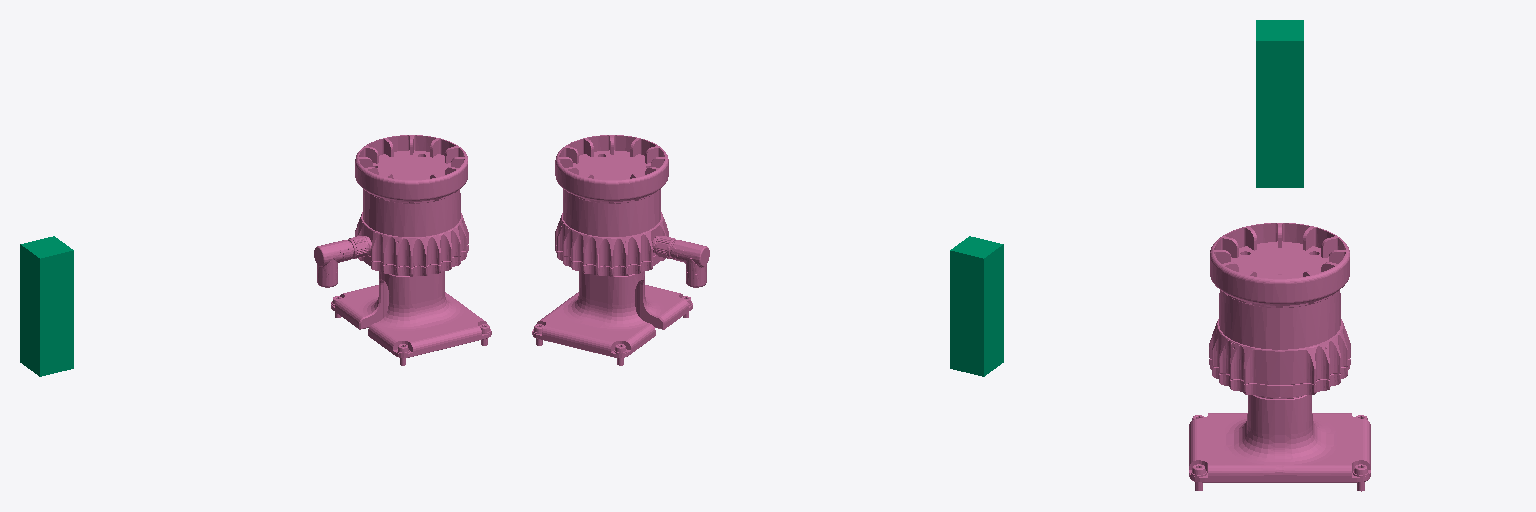
robot.urdf — avular_origin_one:
<?xml version='1.0'?>

<robot name="avular_origin_one">

  <gazebo>
    <static>false</static>
    <plugin filename="gz-sim-sensors-system" name="gz::sim::systems::Sensors">
      <render_engine>ogre2</render_engine>
    </plugin>
    <plugin filename="ignition-gazebo-navsat-system" name="ignition::gazebo::systems::NavSat">
    </plugin>
  </gazebo>

  <link name='base_link' />

  <link name='main_body'>
    <inertial>
      <mass value="21.0"/>
      <inertia ixx="0.4" ixy="0.0" ixz="0.0" iyy="0.77" iyz="0.0" izz="1.01"/>
    </inertial>
    <collision name='collision'>
      <origin xyz="0 0 0.07" rpy="0 0 0.0"/>
      <geometry>
        <box size=".65 .4 .125"/>
      </geometry>
    </collision>
    <visual name='visual'>
      <origin xyz="0 0 0" rpy="0 0 0.0"/>
      <geometry>
        <mesh filename="package://origin_one_description/urdf/meshes/body.obj"
          scale="0.001 0.001 0.001" />
      </geometry>
    </visual>
  </link>

  <link name="left_front_wheel">
    <inertial>
      <mass value="1"/>
      <inertia ixx="0.01" ixy="0.0" ixz="0.0" iyy="0.01" iyz="0.0" izz="0.01"/>
    </inertial>
    <collision>
      <origin xyz="0 0 0.0" rpy="0 0 0"/>
      <geometry>
        <cylinder length=".07" radius=".1175"/>
      </geometry>
    </collision>
    <visual>
      <origin xyz="0.0 0.0 0.0" rpy="0.0 1.5707 0.0"/>
      <geometry>
        <mesh filename="package://origin_one_description/urdf/meshes/wheel.obj"
          scale="0.001 0.001 0.001" />
      </geometry>
    </visual>
  </link>
  <gazebo reference="left_front_wheel">
    <collision>
      <surface>
        <friction>
          <ode>
            <mu>1</mu>
            <mu2>1</mu2>
            <slip1>0.015</slip1>
            <slip2>0</slip2>
            <fdir1>0 0 1</fdir1>
          </ode>
          <bullet>
            <friction>1</friction>
            <friction2>1</friction2>
            <rolling_friction>0.1</rolling_friction>
          </bullet>
        </friction>
      </surface>
    </collision>
  </gazebo>

  <link name="right_front_wheel">
    <inertial>
      <mass value="1"/>
      <inertia ixx="0.01" ixy="0.0" ixz="0.0" iyy="0.01" iyz="0.0" izz="0.01"/>
    </inertial>
    <collision>
      <origin xyz="0 0 0.0" rpy="0 0 0"/>
      <geometry>
        <cylinder length=".07" radius=".1175"/>
      </geometry>
    </collision>
    <visual>
      <origin xyz="0.0 0.0 0.0" rpy="0.0 1.5707 0.0"/>
      <geometry>
        <mesh filename="package://origin_one_description/urdf/meshes/wheel.obj"
          scale="0.001 0.001 0.001" />
      </geometry>
    </visual>
  </link>
  <gazebo reference="right_front_wheel">
    <collision>
      <surface>
        <friction>
          <ode>
            <mu>1</mu>
            <mu2>1</mu2>
            <slip1>0.015</slip1>
            <slip2>0</slip2>
            <fdir1>0 0 1</fdir1>
          </ode>
          <bullet>
            <friction>1</friction>
            <friction2>1</friction2>
            <rolling_friction>0.1</rolling_friction>
          </bullet>
        </friction>
      </surface>
    </collision>
  </gazebo>

  <link name="left_rear_wheel">
    <inertial>
      <mass value="1"/>
      <inertia ixx="0.01" ixy="0.0" ixz="0.0" iyy="0.01" iyz="0.0" izz="0.01"/>
    </inertial>
    <collision>
      <origin xyz="0 0 0.0" rpy="0 0 0"/>
      <geometry>
        <cylinder length=".07" radius=".1175"/>
      </geometry>
    </collision>
    <visual>
      <origin xyz="0.0 0.0 0.0" rpy="0.0 1.5707 0.0"/>
      <geometry>
        <mesh filename="package://origin_one_description/urdf/meshes/wheel.obj"
          scale="0.001 0.001 0.001" />
      </geometry>
    </visual>
  </link>
  <gazebo reference="left_rear_wheel">
    <collision>
      <surface>
        <friction>
          <ode>
            <mu>1</mu>
            <mu2>1</mu2>
            <slip1>0.015</slip1>
            <slip2>0</slip2>
            <fdir1>0 0 1</fdir1>
          </ode>
          <bullet>
            <friction>1</friction>
            <friction2>1</friction2>
            <rolling_friction>0.1</rolling_friction>
          </bullet>
        </friction>
      </surface>
    </collision>
  </gazebo>

  <link name="right_rear_wheel">
    <inertial>
      <mass value="1"/>
      <inertia ixx="0.01" ixy="0.0" ixz="0.0" iyy="0.01" iyz="0.0" izz="0.01"/>
    </inertial>
    <collision>
      <origin xyz="0 0 0.0" rpy="0 0 0"/>
      <geometry>
        <cylinder length=".07" radius=".1175"/>
      </geometry>
    </collision>
    <visual>
      <origin xyz="0.0 0.0 0.0" rpy="0.0 1.5707 0.0"/>
      <geometry>
        <mesh filename="package://origin_one_description/urdf/meshes/wheel.obj"
          scale="0.001 0.001 0.001" />
      </geometry>
    </visual>
  </link>
  <gazebo reference="right_rear_wheel">
    <collision>
      <surface>
        <friction>
          <ode>
            <mu>1</mu>
            <mu2>1</mu2>
            <slip1>0.015</slip1>
            <slip2>0</slip2>
            <fdir1>0 0 1</fdir1>
          </ode>
          <bullet>
            <friction>1</friction>
            <friction2>1</friction2>
            <rolling_friction>0.1</rolling_friction>
          </bullet>
        </friction>
      </surface>
    </collision>
  </gazebo>


  <link name="ouster_base">
    <inertial>
      <mass value="1"/>
      <inertia ixx="0.001" ixy="0.0" ixz="0.0" iyy="0.001" iyz="0.0" izz="0.001"/>
    </inertial>
    <visual name="visual">
      <geometry>
        <mesh filename="package://origin_one_description/urdf/meshes/ouster.obj"
          scale="0.001 0.001 0.001" />
      </geometry>
    </visual>
    <collision name="collision-base">
      <origin xyz="0.0 0.0 0.0" rpy="0.0 0.0 0.0"/>
      <geometry>
        <box size="0.1 0.1 0.1"/>
      </geometry>
    </collision>
  </link>

  <link name="os_sensor" />

  <link name="lidar_link_gazebo">
    <inertial>
      <mass value="0.1"/>
      <inertia ixx="0.001" ixy="0.0" ixz="0.0" iyy="0.001" iyz="0.0" izz="0.001"/>
    </inertial>
    <collision name="collision-base">
      <origin xyz="0 0 0.0" rpy="0 0 0"/>
      <geometry>
        <cylinder length="0.07" radius="0.04"/>
      </geometry>
    </collision>
  </link>

  <gazebo reference="lidar_link_gazebo">
    <sensor name='ouster_lidar' type='gpu_lidar'>
      <topic>/robot/lidar</topic>
      <gz_frame_id>os_lidar</gz_frame_id>
      <update_rate>10</update_rate>
      <lidar>
        <scan>
          <horizontal>
            <samples>1024</samples>
            <resolution>1.0</resolution>
            <min_angle>-3.1415926</min_angle>
            <max_angle>3.1415926</max_angle>
          </horizontal>
          <vertical>
            <samples>32</samples>
            <resolution>1</resolution>
            <min_angle>-0.39</min_angle>
            <max_angle>0.39</max_angle>
          </vertical>
        </scan>
        <range>
          <min>0.08</min>
          <max>100.0</max>
          <resolution>0.01</resolution>
        </range>
        <noise type="gaussian">
          <mean>0.0</mean>
          <stddev>0.01</stddev>
        </noise>
      </lidar>
      <alwaysOn>1</alwaysOn>
      <visualize>true</visualize>
    </sensor>
  </gazebo>

  <link name="camera_link">
    <inertial>
      <mass value="0.035"/>
      <inertia ixx="0.001" ixy="0" ixz="0.0" iyy="0.001" iyz="0.0" izz="0.001"/>
    </inertial>
    <collision name="collision">
      <origin xyz="0 0.047 0" rpy="0 0 0"/>
      <geometry>
        <box size="0.008 0.13 0.022"/>
      </geometry>
    </collision>
  </link>

  <gazebo reference="camera_link">
    <sensor name="realsense_d435" type="rgbd_camera">
      <gz_frame_id>camera_link</gz_frame_id>
      <topic>/robot/camera</topic>
      <update_rate>6</update_rate>
      <camera name="camera">
        <horizontal_fov>1.0472</horizontal_fov>
        <lens>
          <intrinsics>
            <!-- fx = fy = width / ( 2 * tan (hfov / 2 ) ) -->
            <fx>554.25469</fx>
            <fy>554.25469</fy>
            <!-- cx = ( width + 1 ) / 2 -->
            <cx>320.5</cx>
            <!-- cy = ( height + 1 ) / 2 -->
            <cy>240.5</cy>
            <s>0</s>
          </intrinsics>
        </lens>
        <distortion>
          <k1>0.0</k1>
          <k2>0.0</k2>
          <k3>0.0</k3>
          <p1>0.0</p1>
          <p2>0.0</p2>
          <center>0.5 0.5</center>
        </distortion>
        <image>
          <width>640</width>
          <height>480</height>
          <format>R8G8B8</format>
        </image>
        <clip>
          <near>0.02</near>
          <far>300</far>
        </clip>
        <depth_camera>
          <clip>
            <near>0.1</near>
            <far>10</far>
          </clip>
        </depth_camera>
        <noise type="gaussian">
          <mean>0</mean>
          <stddev>0.007</stddev>
        </noise>
      </camera>
    </sensor>
  </gazebo>

  <link name="gnss_link">
    <visual name="visual_pole">
      <geometry>
        <mesh filename="package://origin_one_description/urdf/meshes/antenna.obj"
          scale="0.001 0.001 0.001" />
      </geometry>
      <origin xyz="0.0 0 0.0" rpy="0 0 0"/>
      <geometry>
        <box size="0.03 0.03 0.1"/>
      </geometry>
    </visual>
  </link>

  <gazebo reference="gnss_link">
    <sensor name="navsat" type="navsat">
      <gz_frame_id>gnss_link</gz_frame_id>
      <always_on>1</always_on>
      <update_rate>10</update_rate>
      <topic>/robot/gnss</topic>
      <!-- Obtained from http://sdformat.org/spec?ver=1.11&elem=sensor#sensor_gps -->
      <gps>
        <position_sensing>
          <horizontal>
            <!-- Noise in degrees: https://github.com/gazebosim/gz-sensors/issues/325 -->
            <noise type="gaussian">
              <mean>0.0</mean>
              <stddev>0.0001</stddev>
            </noise>
          </horizontal>
          <vertical>
            <!-- Noise in degrees -->
            <noise type="gaussian">
              <mean>0.0</mean>
              <stddev>0.0001</stddev>
            </noise>
          </vertical>
        </position_sensing>
      </gps>
    </sensor>
  </gazebo>
  
  <link name="us_left_front_link">
  </link>

  <link name="us_center_front_link">
  </link>

  <link name="us_right_front_link">
  </link>

  <link name="us_left_rear_link">
  </link>

  <link name="us_center_rear_link">
  </link>

  <link name="us_right_rear_link">
  </link>

  <link name="imu_link">
  </link>

  <joint type="fixed" name="base_body">
    <origin xyz="0.0 0 0.064" rpy="0 0 0"/>
    <child link="main_body" />
    <parent link="base_link"/>
  </joint>

  <joint type="continuous" name="main_body_left_front_wheel">
    <origin xyz="0.205 0.25 0.056" rpy="-1.5707 0 0"/>
    <child link="left_front_wheel" />
    <parent link="main_body"/>
    <axis xyz="0 0 1"/>
    <limit effort="100000.0" velocity="10"/>
  </joint>

  <joint type="continuous" name="main_body_right_front_wheel">
    <origin xyz="0.205 -0.25 0.056" rpy="1.5707 0 0"/>
    <child link="right_front_wheel" />
    <parent link="main_body"/>
    <axis xyz="0 0 -1"/>
    <limit effort="100000.0" velocity="10"/>
  </joint>

  <joint type="continuous" name="main_body_left_rear_wheel">
    <origin xyz="-0.205 0.25 0.056" rpy="-1.5707 0 0"/>
    <child link="left_rear_wheel" />
    <parent link="main_body"/>
    <axis xyz="0 0 1"/>
    <limit effort="100000.0" velocity="10"/>
  </joint>

  <joint type="continuous" name="main_body_right_rear_wheel">
    <origin xyz="-0.205 -0.25 0.056" rpy="1.5707 0 0"/>
    <child link="right_rear_wheel" />
    <parent link="main_body"/>
    <axis xyz="0 0 -1"/>
    <limit effort="100000.0" velocity="10"/>
  </joint>

  <joint type="fixed" name="ouster_platform_joint">
    <origin xyz="0.272 0 0.189" rpy="0 0 0"/>
    <child link="ouster_base" />
    <parent link="main_body"/>
  </joint>

  <joint name="ouster_orientation_joint" type="fixed">
    <parent link="ouster_base" />
    <child link="os_sensor" />
    <origin xyz="0 0 0" rpy="0 0 0" />
  </joint>

  <joint type="fixed" name="lidar_joint_gazebo">
    <origin xyz="0 0 0.035" rpy="0 0 0"/>
    <child link="lidar_link_gazebo" />
    <parent link="ouster_base"/>
  </joint>

  <joint type="fixed" name="realsense_joint">
    <origin xyz="0.3156 0.017 0.096" rpy="0 0 0"/>
    <child link="camera_link"/>
    <parent link="main_body"/>
  </joint>

  <joint type="fixed" name="gnss_joint">
    <origin xyz="-0.0505 0 0.212" rpy="0 0 0"/>
    <child link="gnss_link"/>
    <parent link="main_body"/>
  </joint>

  <joint type="fixed" name="us_left_front_joint">
    <origin xyz="0.314 0.119 0.072" rpy="0 0 -0.7854"/>
    <child link="us_left_front_link"/>
    <parent link="main_body"/>
  </joint>

  <joint type="fixed" name="us_center_front_joint">
    <origin xyz="0.322 0 0.063" rpy="0 0 0"/>
    <child link="us_center_front_link"/>
    <parent link="main_body"/>
  </joint>

  <joint type="fixed" name="us_right_front_joint">
    <origin xyz="0.314 -0.119 0.072" rpy="0 0 0.7854"/>
    <child link="us_right_front_link"/>
    <parent link="main_body"/>
  </joint>

  <joint type="fixed" name="us_left_rear_joint">
    <origin xyz="-0.314 0.119 0.072" rpy="0 0 -2.357"/>
    <child link="us_left_rear_link"/>
    <parent link="main_body"/>
  </joint>

  <joint type="fixed" name="us_center_rear_joint">
    <origin xyz="-0.322 0 0.063" rpy="0 0 0"/>
    <child link="us_center_rear_link"/>
    <parent link="main_body"/>
  </joint>

  <joint type="fixed" name="us_right_rear_joint">
    <origin xyz="-0.314 -0.119 0.072" rpy="0 0 2.357"/>
    <child link="us_right_rear_link"/>
    <parent link="main_body"/>
  </joint>


  <joint type="fixed" name="imu_joint">
    <origin xyz="-0.1266 0.0749 0.066" rpy="0 0 2.357"/>
    <child link="imu_link"/>
    <parent link="main_body"/>
  </joint>

  <!-- Controls the differential drive robot -->
  <gazebo>
    <plugin filename="gz-sim-joint-state-publisher-system" name="ignition::gazebo::systems::JointStatePublisher">
      <topic>/robot/joint_states</topic>
    </plugin>
    <plugin filename="gz-sim-diff-drive-system" name="gz::sim::systems::DiffDrive">
      <left_joint>main_body_left_front_wheel</left_joint>
      <left_joint>main_body_left_rear_wheel</left_joint>
      <right_joint>main_body_right_front_wheel</right_joint>
      <right_joint>main_body_right_rear_wheel</right_joint>
      <wheel_separation>0.45</wheel_separation>
      <wheel_radius>0.120</wheel_radius>
      <max_linear_acceleration>5.5</max_linear_acceleration>
      <min_linear_acceleration>-5.5</min_linear_acceleration>
      <max_angular_acceleration>6</max_angular_acceleration>
      <min_angular_acceleration>-6</min_angular_acceleration>
      <max_linear_velocity>1.5</max_linear_velocity>
      <min_linear_velocity>-1.5</min_linear_velocity>
      <max_angular_velocity>2</max_angular_velocity>
      <min_angular_velocity>-2</min_angular_velocity>

      <topic>/robot/cmd_vel</topic>
      <odom_topic>/robot/odom</odom_topic>
      <tf_topic>/robot/tf</tf_topic>
      <frame_id>odom</frame_id>
      <child_frame_id>base_link</child_frame_id>
    </plugin>
  </gazebo>

</robot>

--- What the picture shows (computed from the rendered views, not written in the file) ---
The picture shows the robot from 3 angles, left to right: view 1: azimuth 30°, elevation 25°; view 2: azimuth 150°, elevation 25°; view 3: azimuth 270°, elevation 25°; orthographic projection.
Robot: avular_origin_one — 18 links, 17 joints (4 continuous, 13 fixed); root link base_link; default pose: every joint at zero.
Visible links, largest first — view 1: ouster_base, gnss_link; view 2: ouster_base, gnss_link; view 3: ouster_base, gnss_link.
Boxes of the visible links, <box> form: ouster_base: <box>314,135,491,365</box>; gnss_link: <box>20,236,73,376</box>; ouster_base: <box>532,135,709,365</box>; gnss_link: <box>950,236,1003,376</box>; ouster_base: <box>1189,223,1370,491</box>; gnss_link: <box>1256,20,1303,187</box>.
Bounding box of the posed robot: 0.3809 × 0.112 × 0.1465 m (x, y, z).
1 mesh visuals loaded from 3 distinct referenced files (1 OBJ); not drawn: 5 (file found but could not be loaded).